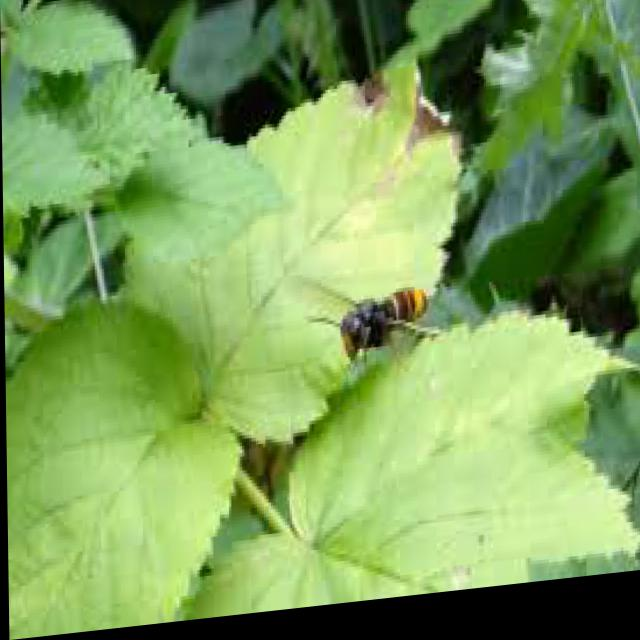Vespa Velutina: (272, 263, 448, 405)
